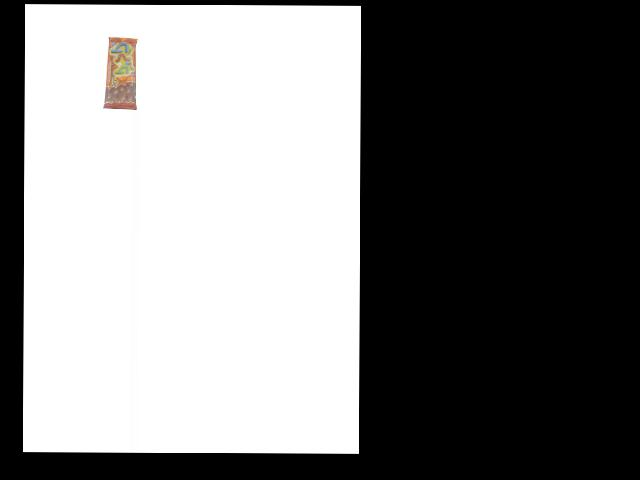chocolate: (104, 36, 137, 109)
